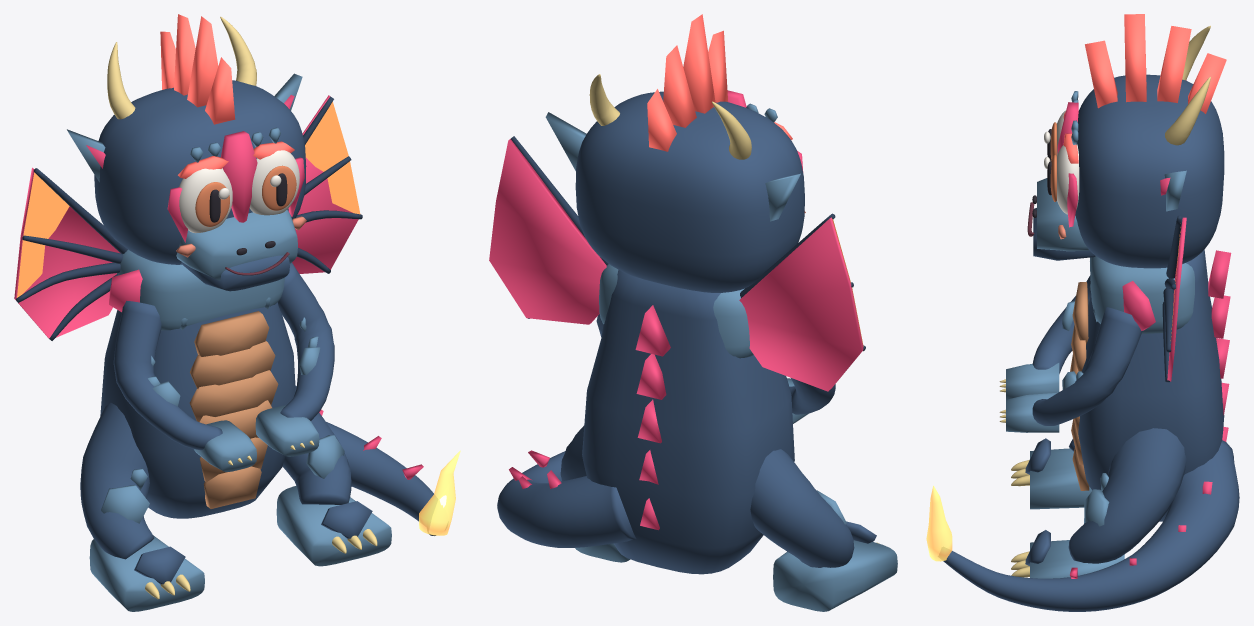
Rendered from AitvarasDragon.glb.
3 views of the same model, side by side, from view 1: azimuth 30°, elevation 25°; view 2: azimuth 150°, elevation 25°; view 3: azimuth 270°, elevation 25° (orthographic). The views are drawn at different scales.
Parts seen in each view (by area): view 1: Skull, Torso, BellyArmour, Leg.L, WingMembrane.L, Arm.L, ShoulderShell, CrownCrest, Snout, Arm.R, Paw.R, Paw.L (+26 smaller); view 2: Torso, Skull, WingMembrane.L, WingMembrane.R, Tail, Leg.L, CrownCrest, Paw.L, DorsalFins, ShoulderShell, Arm.L, Horn.L (+7 smaller); view 3: Skull, Torso, Tail, Leg.R, CrownCrest, Arm.R, ShoulderShell, Paw.L, Snout, DorsalFins, BellyArmour, Paw.R (+17 smaller).
Boxes of the visible parts, left/top/right/bottom form: Skull: left=94, top=80, right=306, bottom=264; Torso: left=100, top=302, right=295, bottom=518; BellyArmour: left=189, top=311, right=278, bottom=508; Leg.L: left=80, top=402, right=154, bottom=559; WingMembrane.L: left=14, top=167, right=120, bottom=338; Arm.L: left=113, top=301, right=222, bottom=450; ShoulderShell: left=117, top=249, right=285, bottom=330; CrownCrest: left=160, top=14, right=235, bottom=124; Snout: left=176, top=209, right=297, bottom=280; Arm.R: left=278, top=262, right=334, bottom=420; Paw.R: left=276, top=486, right=391, bottom=566; Paw.L: left=89, top=535, right=204, bottom=611; Torso: left=582, top=269, right=794, bottom=574; Skull: left=575, top=91, right=804, bottom=292; WingMembrane.L: left=739, top=217, right=863, bottom=391; WingMembrane.R: left=489, top=139, right=606, bottom=324; Tail: left=497, top=451, right=636, bottom=547; Leg.L: left=750, top=449, right=854, bottom=567; CrownCrest: left=647, top=14, right=728, bottom=151; Paw.L: left=773, top=540, right=897, bottom=611; DorsalFins: left=635, top=305, right=670, bottom=530; ShoulderShell: left=599, top=264, right=753, bottom=358; Arm.L: left=789, top=378, right=835, bottom=414; Horn.L: left=712, top=101, right=751, bottom=159; Skull: left=1075, top=74, right=1224, bottom=268; Torso: left=1078, top=249, right=1224, bottom=521; Tail: left=943, top=440, right=1239, bottom=611; Leg.R: left=1068, top=428, right=1186, bottom=563; CrownCrest: left=1085, top=14, right=1226, bottom=113; Arm.R: left=1032, top=307, right=1142, bottom=425; ShoulderShell: left=1090, top=255, right=1194, bottom=334; Paw.L: left=1030, top=448, right=1092, bottom=509; Snout: left=1037, top=178, right=1089, bottom=251; DorsalFins: left=1208, top=250, right=1231, bottom=441; BellyArmour: left=1070, top=282, right=1089, bottom=490; Paw.R: left=1030, top=540, right=1124, bottom=578.
Bounding box in the file's own units: 1.22 × 1.7 × 0.911.
